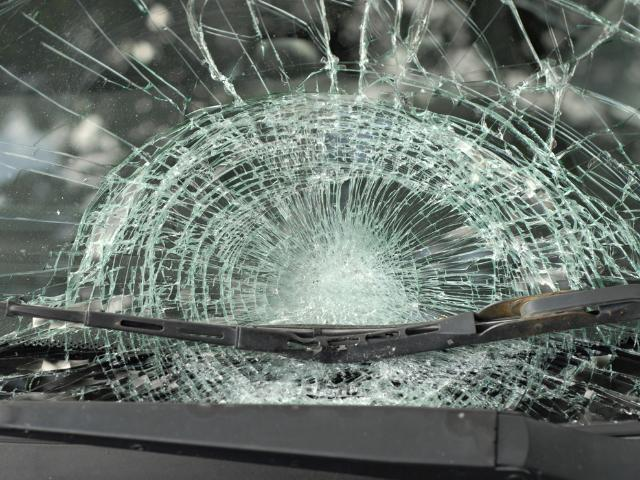Windshield: (0, 0, 636, 412)
